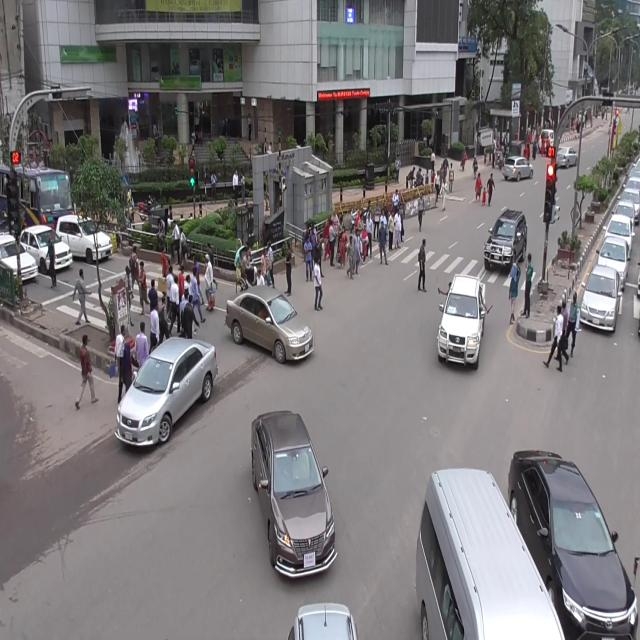black: (509, 445, 639, 640), (250, 409, 339, 577), (483, 208, 528, 268)
silver: (416, 467, 566, 640), (115, 333, 220, 444), (225, 284, 316, 362), (503, 154, 534, 181), (556, 144, 579, 169)
